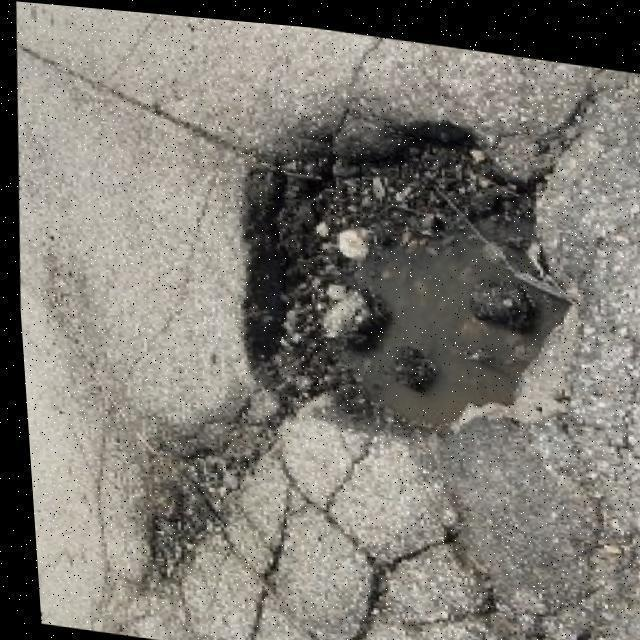Pothole: (231, 99, 591, 444), (142, 411, 268, 592)
